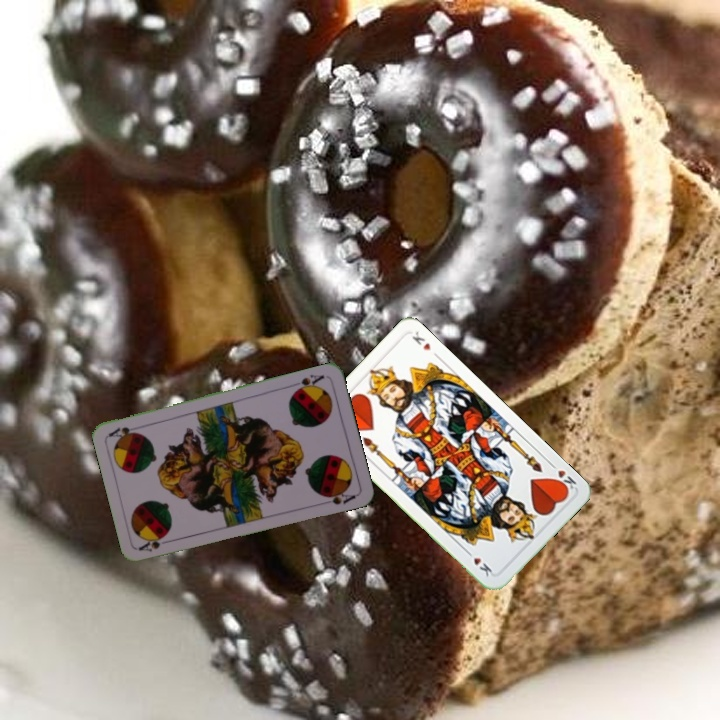HK: (546, 459, 579, 495)
SA: (288, 370, 327, 395), (135, 533, 175, 555)
